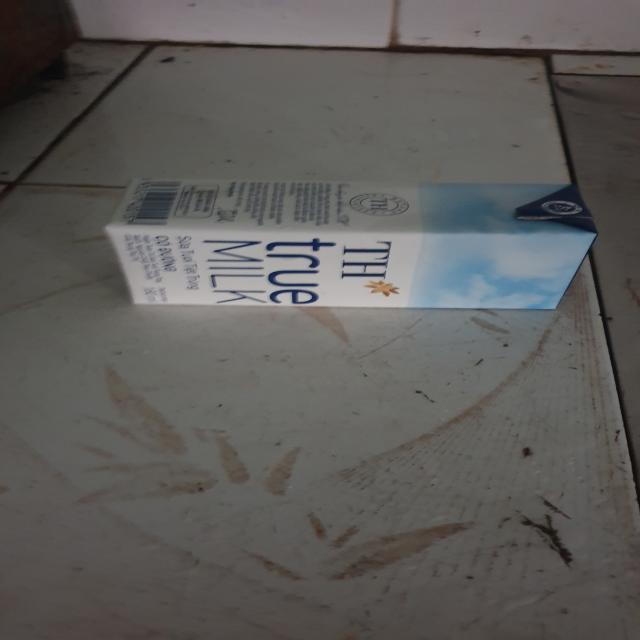TH: (103, 173, 602, 314)
